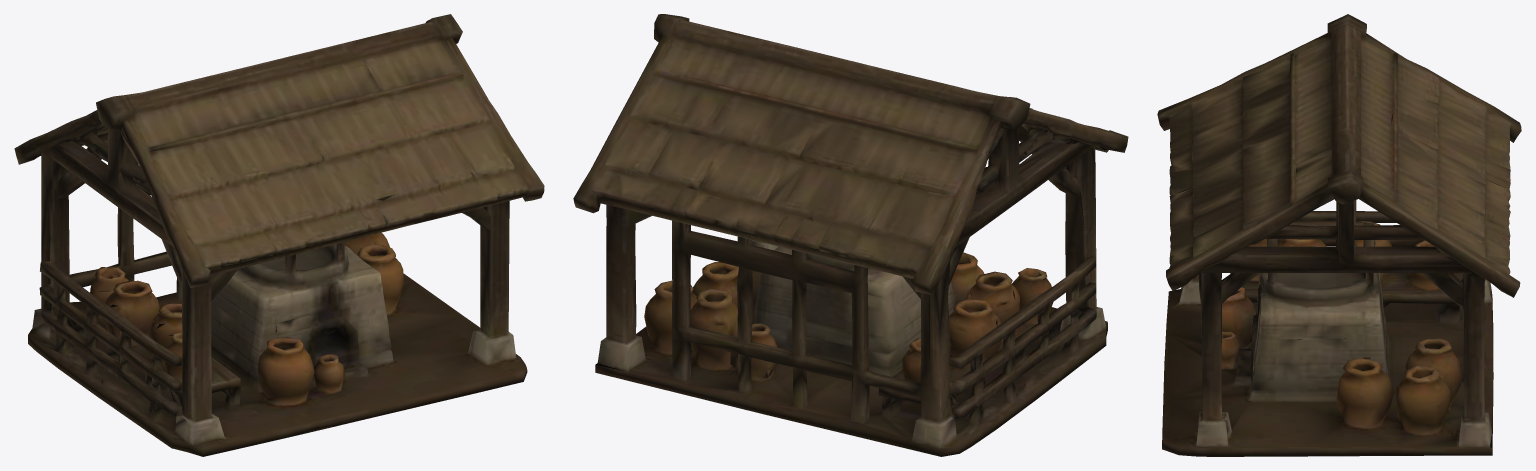
The model's file is bq_pottery.bk.glb.
3 views of the same model, side by side, from view 1: azimuth 30°, elevation 25°; view 2: azimuth 150°, elevation 25°; view 3: azimuth 270°, elevation 25° (orthographic). The views are drawn at different scales.
Visible parts, largest first — view 1: lo; view 2: lo; view 3: lo.
Part boxes in pixels (x1=…): lo: x1=14, y1=14, x2=544, y2=456; lo: x1=573, y1=14, x2=1128, y2=456; lo: x1=1157, y1=14, x2=1521, y2=456.
Size of the model in its own units: 1.9 by 1.47 by 1.71.
1 material, 1 textured.
